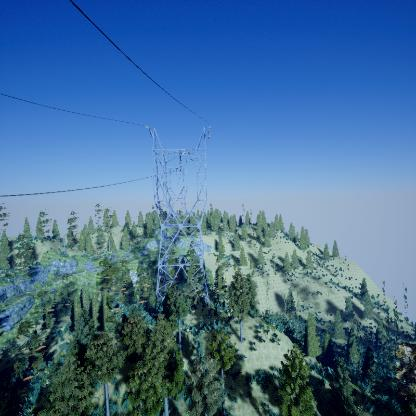tower: (142, 119, 218, 312)
